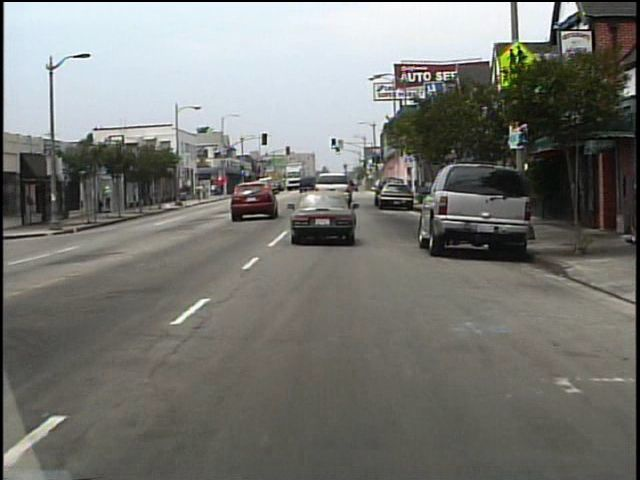person: (106, 185, 118, 214)
